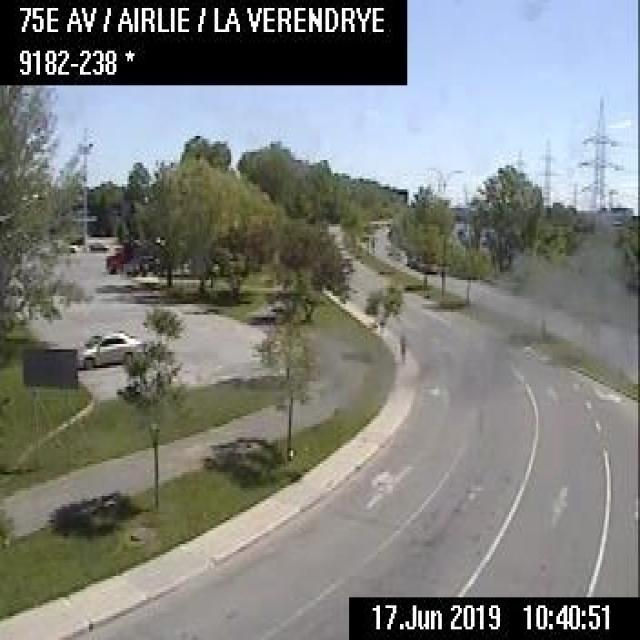pedestrian: (398, 328, 406, 360)
vehicle: (74, 328, 146, 368)
